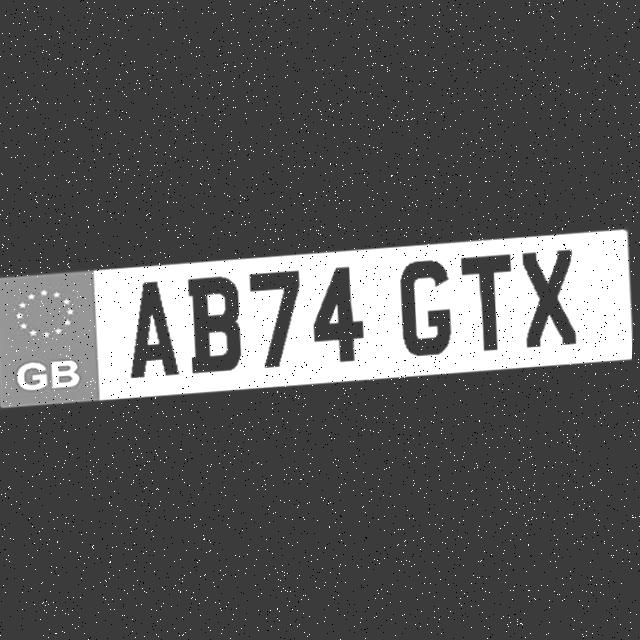license-plates: (0, 227, 633, 407)
